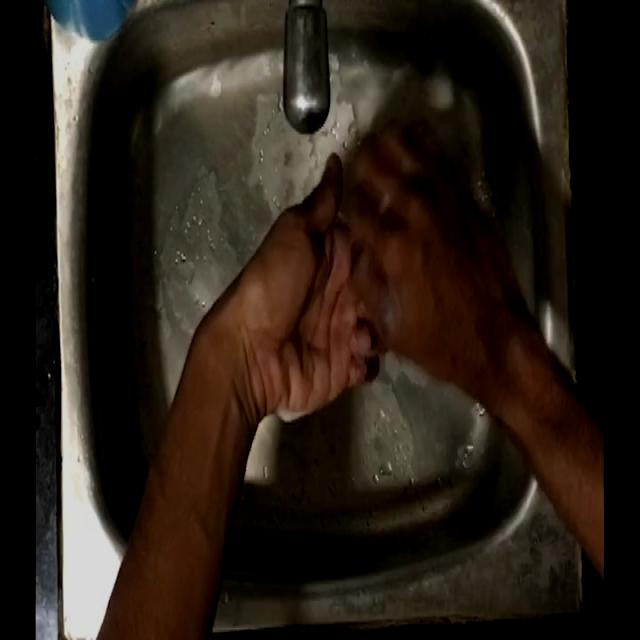step_4: (238, 145, 494, 405)
